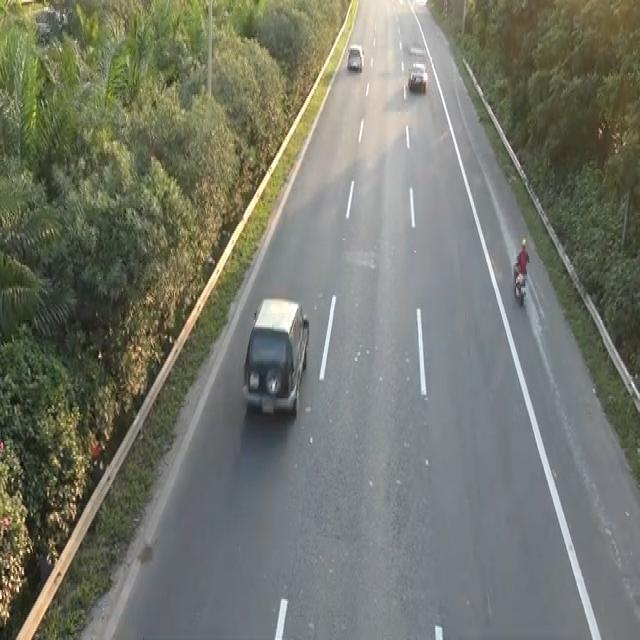car: (240, 292, 311, 419)
minibus: (511, 258, 528, 306)
